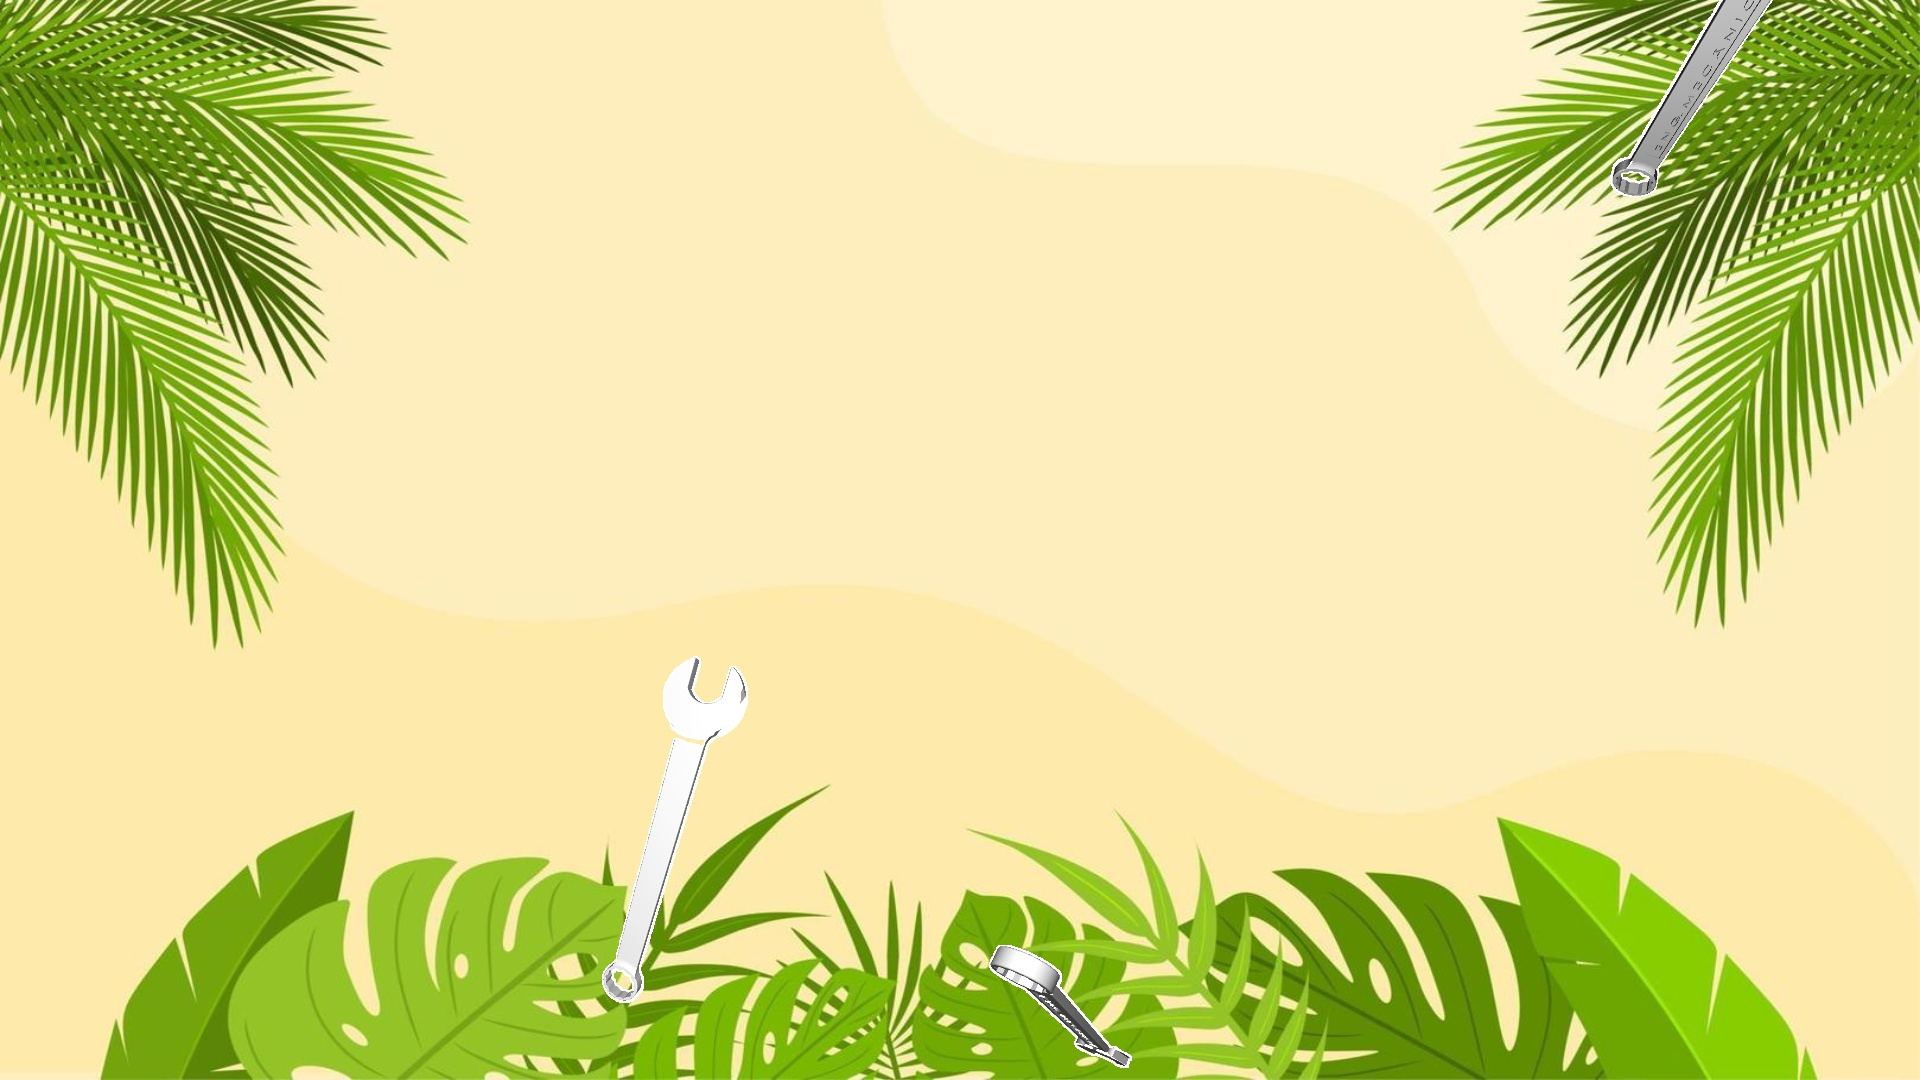Mixed Key: (603, 655, 746, 1002), (1610, 0, 1772, 196), (989, 945, 1131, 1067)
